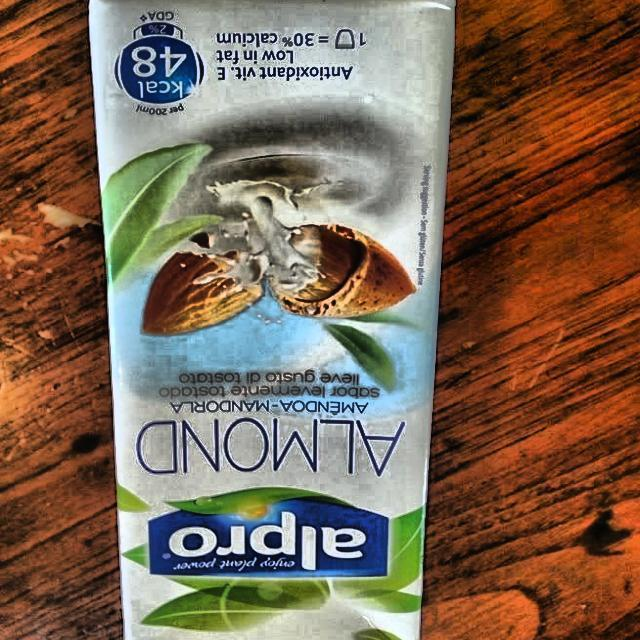cardboard: (87, 0, 457, 640)
